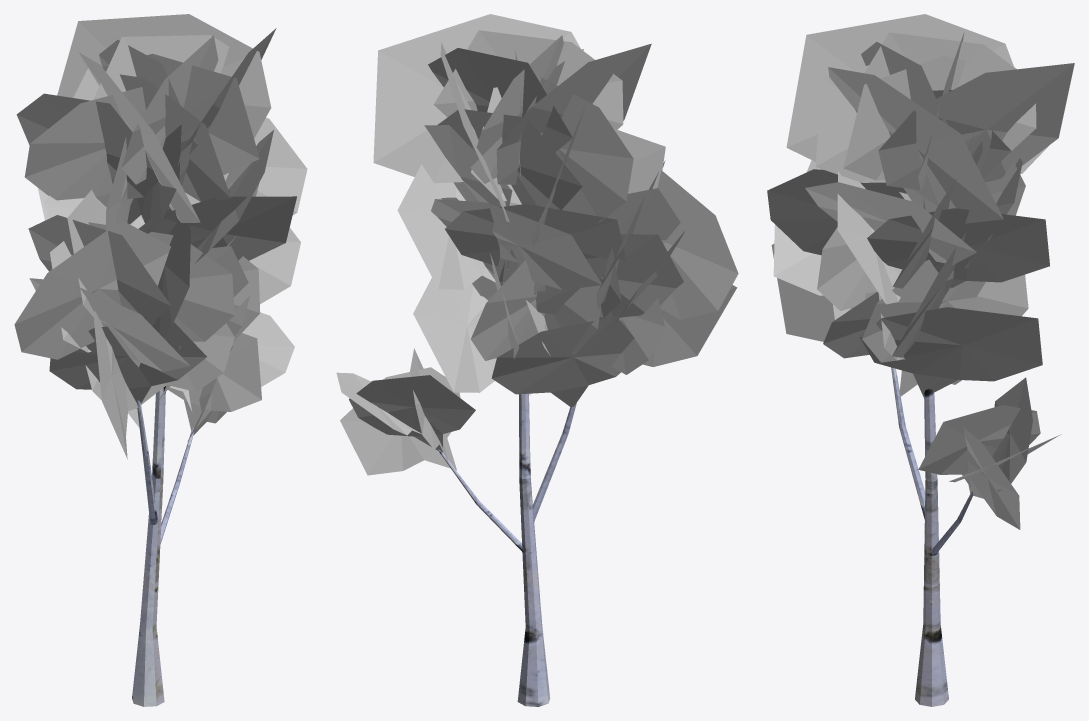
Rendered from Birch_001.fbx.
3 views of the same model, side by side, from view 1: azimuth 30°, elevation 25°; view 2: azimuth 150°, elevation 25°; view 3: azimuth 270°, elevation 25° (orthographic).
Visible parts, largest first — view 1: Tree_Birch_Leaves1, Tree_Birch_Trunk1; view 2: Tree_Birch_Leaves1, Tree_Birch_Trunk1; view 3: Tree_Birch_Leaves1, Tree_Birch_Trunk1.
Part boxes in pixels (x1,y1,x2,y2): Tree_Birch_Leaves1: (14,14,307,459); Tree_Birch_Trunk1: (132,386,194,706); Tree_Birch_Leaves1: (336,14,738,475); Tree_Birch_Trunk1: (437,291,576,706); Tree_Birch_Leaves1: (767,14,1074,529); Tree_Birch_Trunk1: (891,367,1004,706).
Bounding box in the file's own units: 1005 × 1882 × 791.
